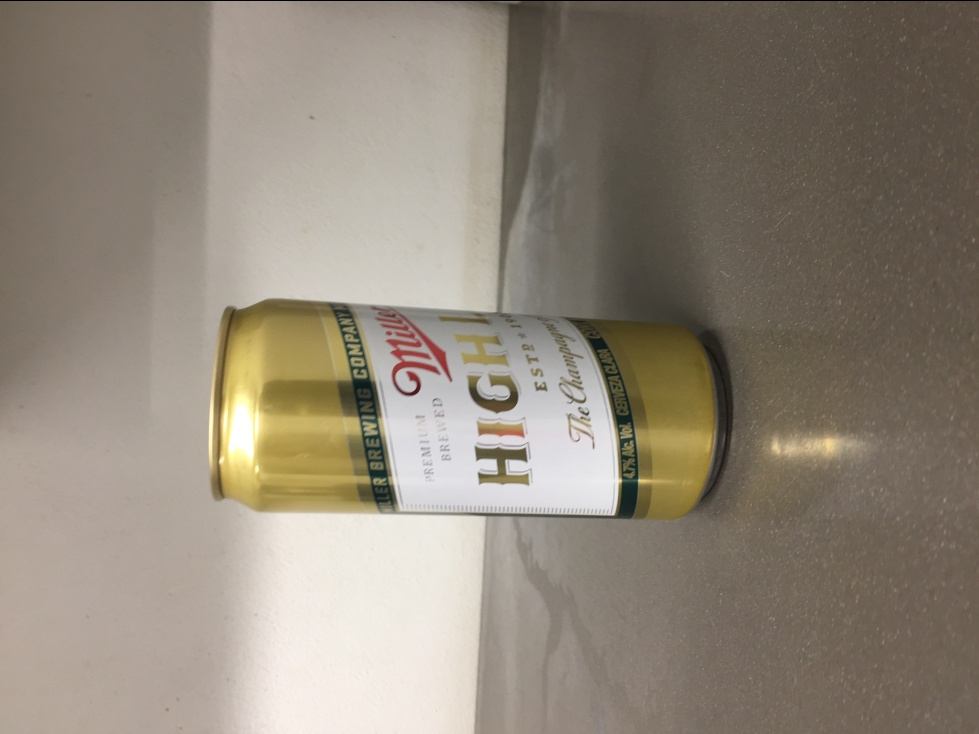miller: (206, 294, 730, 522)
